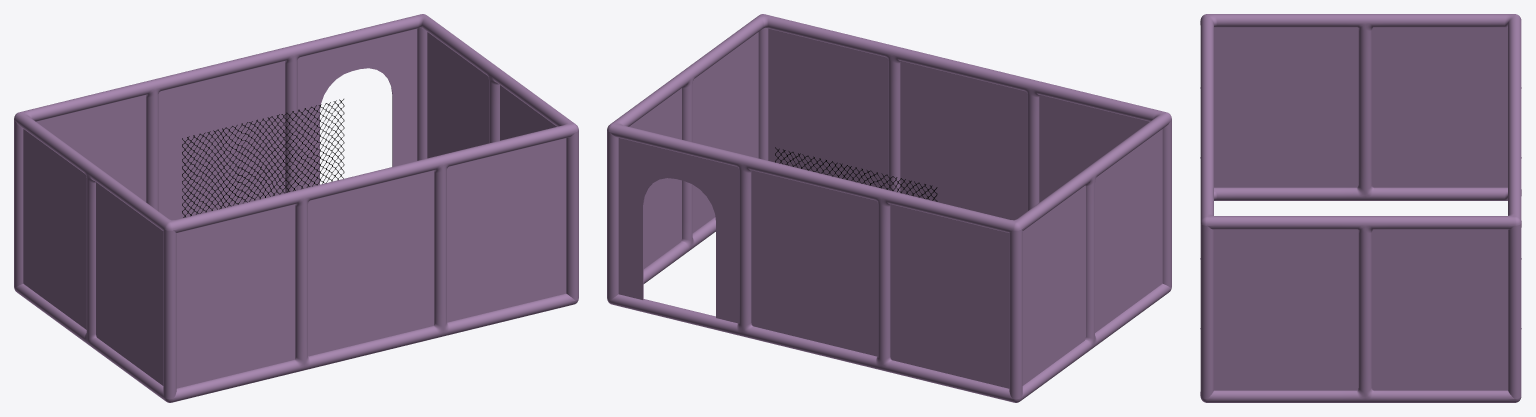
File: BabyCageBeta.fbx
3 views of the same model, side by side, from view 1: azimuth 30°, elevation 25°; view 2: azimuth 150°, elevation 25°; view 3: azimuth 270°, elevation 25° (orthographic). The views are drawn at different scales.
Visible parts, largest first — view 1: polySurface34, pPlane9, pPlane10, pPlane8, pPlane6, pPlane11, pPlane12, pCube2, pPlane7, pPlane13, pPlane3, pPlane14; view 2: polySurface34, pPlane6, pPlane7, pPlane9, pPlane10, pPlane11, pCube2, pPlane12, pPlane14, pPlane8, pPlane13, pPlane3; view 3: polySurface34, pPlane14, pPlane11, pPlane13, pPlane12.
Part boxes in pixels (x1=…): polySurface34: x1=14, y1=14, x2=578, y2=402; pPlane9: x1=308, y1=170, x2=434, y2=356; pPlane10: x1=447, y1=138, x2=566, y2=322; pPlane8: x1=176, y1=204, x2=295, y2=388; pPlane6: x1=158, y1=61, x2=285, y2=220; pPlane11: x1=96, y1=182, x2=163, y2=385; pPlane12: x1=23, y1=129, x2=86, y2=329; pCube2: x1=297, y1=29, x2=417, y2=189; pPlane7: x1=36, y1=95, x2=146, y2=201; pPlane13: x1=427, y1=32, x2=488, y2=158; pPlane3: x1=182, y1=99, x2=344, y2=217; pPlane14: x1=500, y1=85, x2=556, y2=140; polySurface34: x1=607, y1=14, x2=1171, y2=402; pPlane6: x1=751, y1=170, x2=877, y2=356; pPlane7: x1=890, y1=204, x2=1009, y2=388; pPlane9: x1=900, y1=61, x2=1027, y2=220; pPlane10: x1=768, y1=28, x2=888, y2=189; pPlane11: x1=1095, y1=129, x2=1162, y2=332; pCube2: x1=618, y1=138, x2=738, y2=323; pPlane12: x1=1022, y1=185, x2=1085, y2=385; pPlane14: x1=692, y1=32, x2=758, y2=232; pPlane8: x1=1039, y1=95, x2=1149, y2=202; pPlane13: x1=629, y1=88, x2=681, y2=268; pPlane3: x1=775, y1=147, x2=937, y2=201; polySurface34: x1=1200, y1=14, x2=1521, y2=402; pPlane14: x1=1214, y1=229, x2=1358, y2=390; pPlane11: x1=1214, y1=27, x2=1358, y2=187; pPlane13: x1=1372, y1=229, x2=1507, y2=390; pPlane12: x1=1372, y1=27, x2=1507, y2=187.
Size of the model in its own units: 72 by 29.99 by 47.
